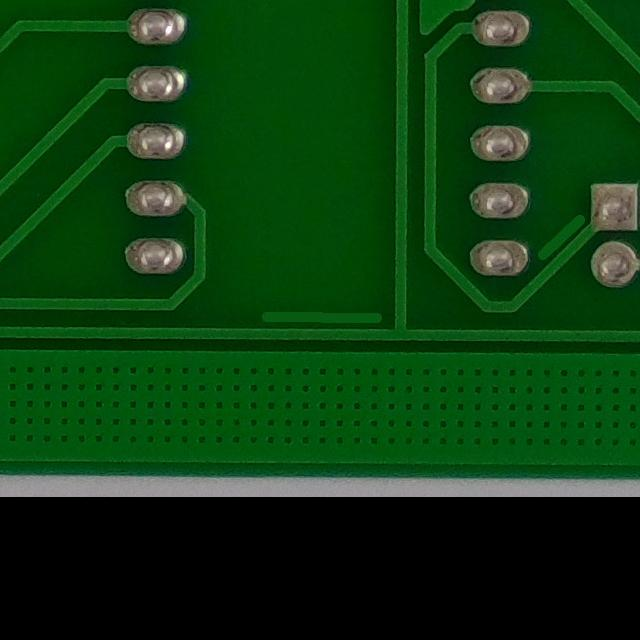spurious_copper: (242, 294, 399, 346)
